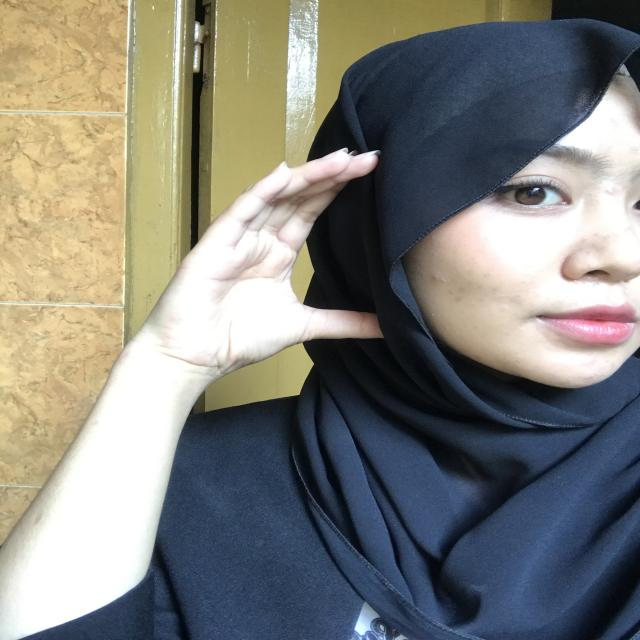mendengar: (143, 132, 392, 396)
